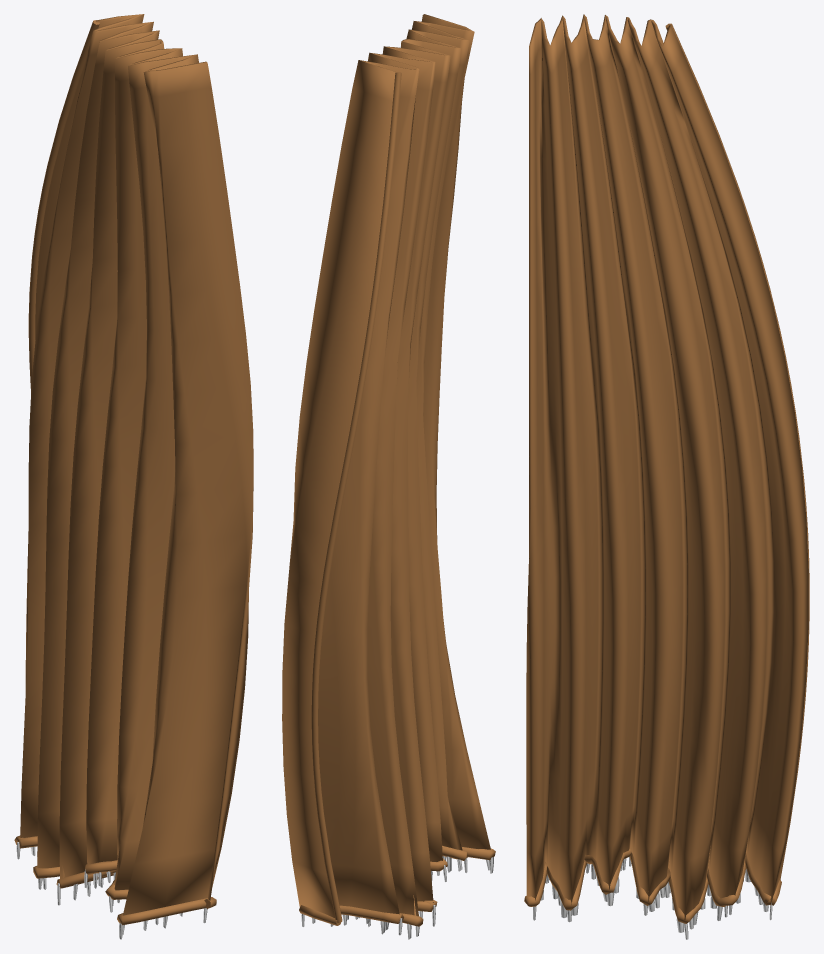
File: SM_Menu_CurtainRight.fbx
3 views of the same model, side by side, from view 1: azimuth 30°, elevation 25°; view 2: azimuth 150°, elevation 25°; view 3: azimuth 270°, elevation 25° (orthographic). The views are drawn at different scales.
Parts seen in each view (by area): view 1: SM_Menu_CurtainRight; view 2: SM_Menu_CurtainRight; view 3: SM_Menu_CurtainRight.
Part boxes in pixels (left/top/right/bottom): SM_Menu_CurtainRight: left=14, top=14, right=253, bottom=939; SM_Menu_CurtainRight: left=282, top=14, right=495, bottom=939; SM_Menu_CurtainRight: left=524, top=14, right=809, bottom=939.
Size of the model in its own units: 95.71 by 178 by 612.
